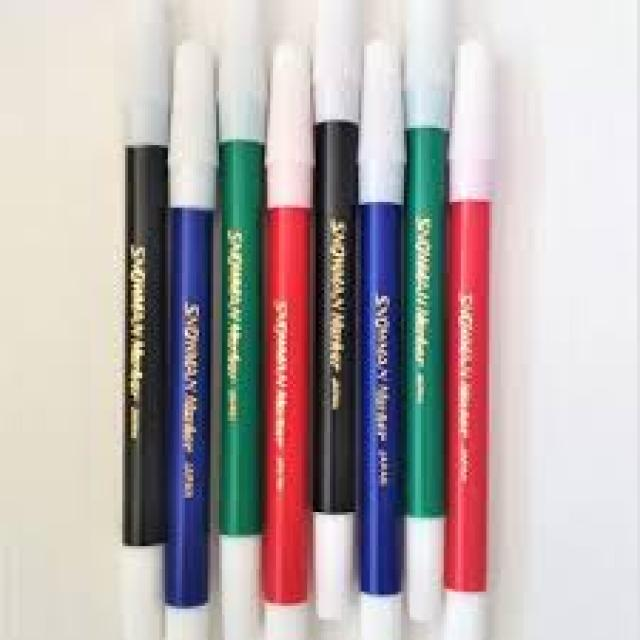marker: (114, 9, 169, 568), (263, 44, 313, 639), (360, 38, 403, 640), (447, 30, 487, 640)
